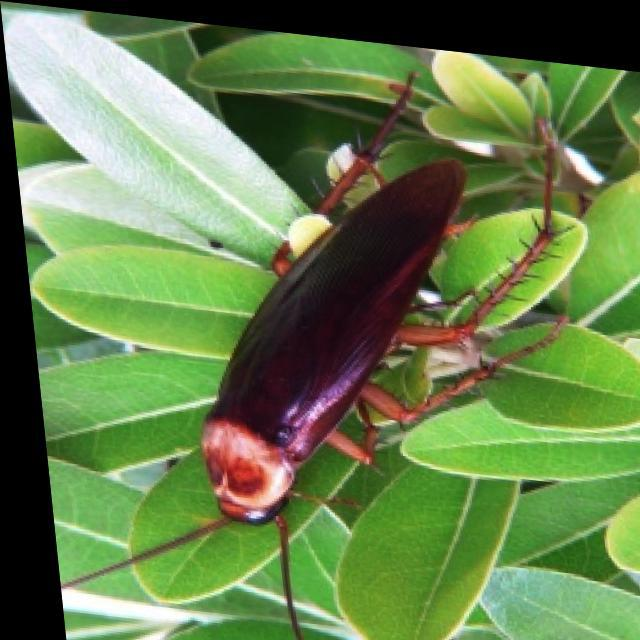cockroach: (118, 67, 580, 632)
